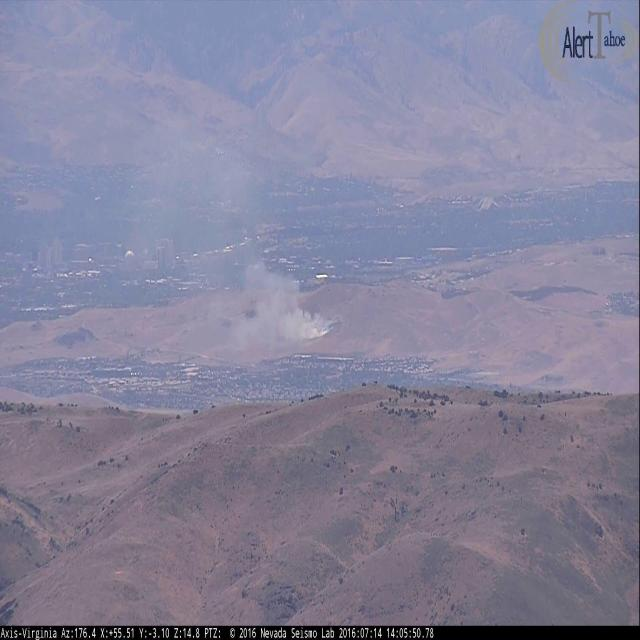smoke: (134, 109, 337, 346), (57, 107, 132, 301)
